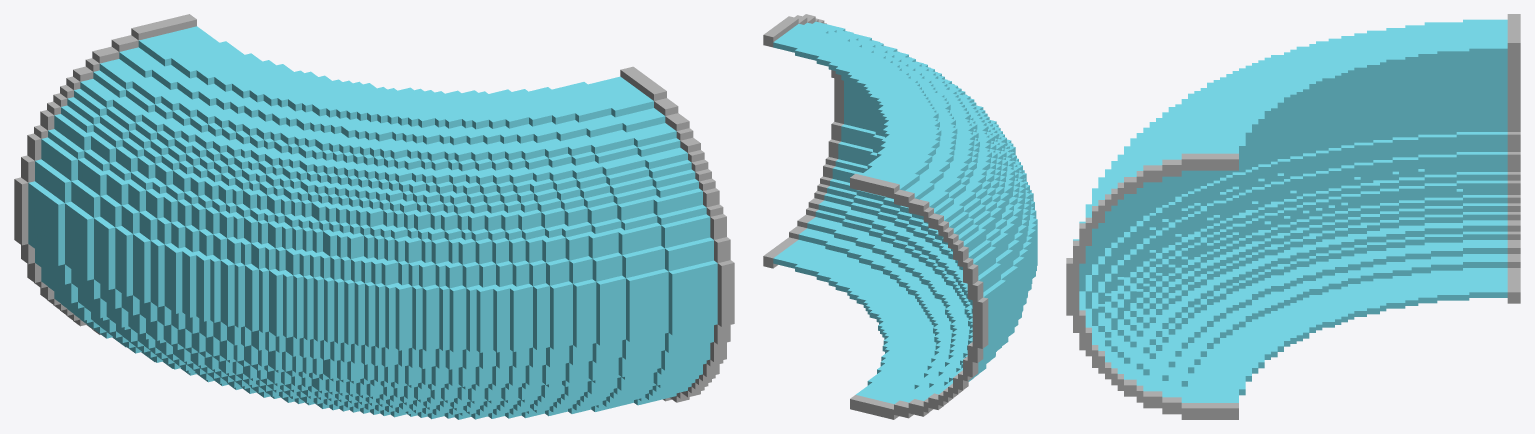
Rendered from Nuclear Pile1-3.fbx.
3 renders of one model, left to right at view 1: azimuth 30°, elevation 25°; view 2: azimuth 150°, elevation 25°; view 3: azimuth 270°, elevation 25°, orthographic. The views are drawn at different scales.
Visible parts, largest first — view 1: Nuclear Pile1-3.001, Nuclear Pile1-3.006, Nuclear Pile1-3.000; view 2: Nuclear Pile1-3.001, Nuclear Pile1-3.000, Nuclear Pile1-3.006; view 3: Nuclear Pile1-3.001, Nuclear Pile1-3.006, Nuclear Pile1-3.000.
Boxes of the visible parts, x1=… form: Nuclear Pile1-3.001: x1=28, y1=26, x2=717, y2=419; Nuclear Pile1-3.006: x1=620, y1=66, x2=734, y2=402; Nuclear Pile1-3.000: x1=14, y1=14, x2=196, y2=334; Nuclear Pile1-3.001: x1=773, y1=21, x2=1037, y2=404; Nuclear Pile1-3.000: x1=850, y1=173, x2=988, y2=419; Nuclear Pile1-3.006: x1=763, y1=14, x2=843, y2=268; Nuclear Pile1-3.001: x1=1073, y1=19, x2=1507, y2=402; Nuclear Pile1-3.006: x1=1066, y1=153, x2=1238, y2=419; Nuclear Pile1-3.000: x1=1507, y1=14, x2=1520, y2=303.
Bounding box in the file's own units: 7 × 4.5 × 7.1.
